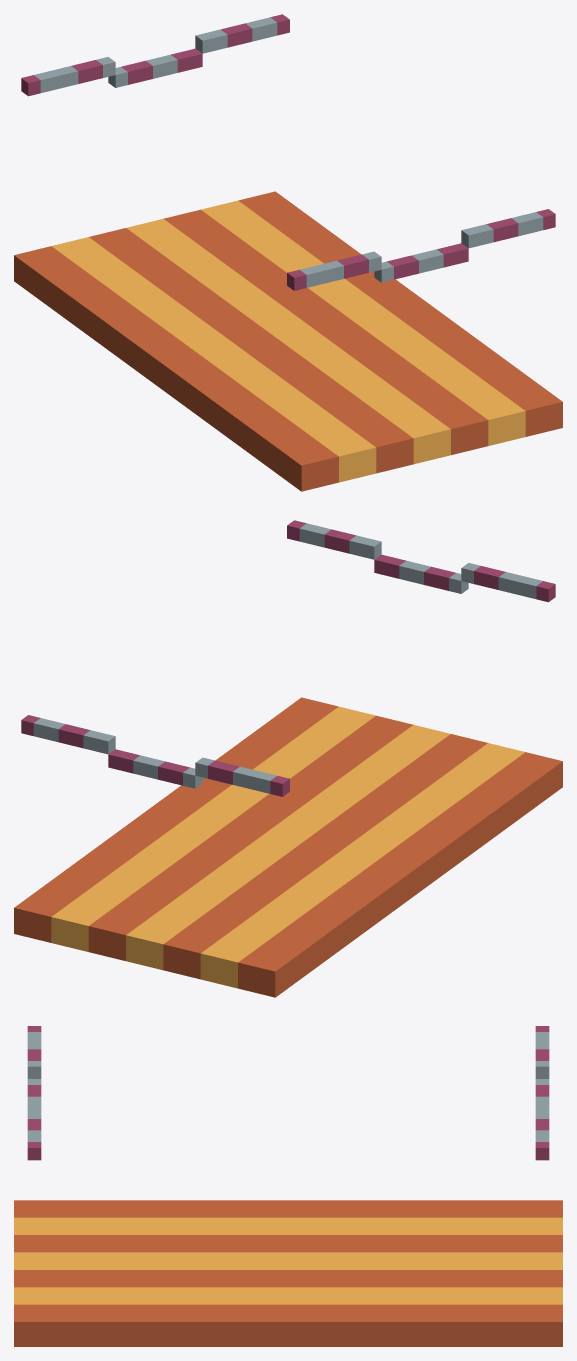
Rendered from puente_medio.obj.
3 views of the same model, one above another, from view 1: azimuth 30°, elevation 25°; view 2: azimuth 150°, elevation 25°; view 3: azimuth 270°, elevation 25° (orthographic). The views are drawn at different scales.
Size of the model in its own units: 2.1 by 1.6 by 4.
Materials: 1 (1 with a texture image).
